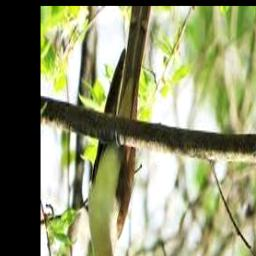Cuckoo: (88, 6, 152, 256)
